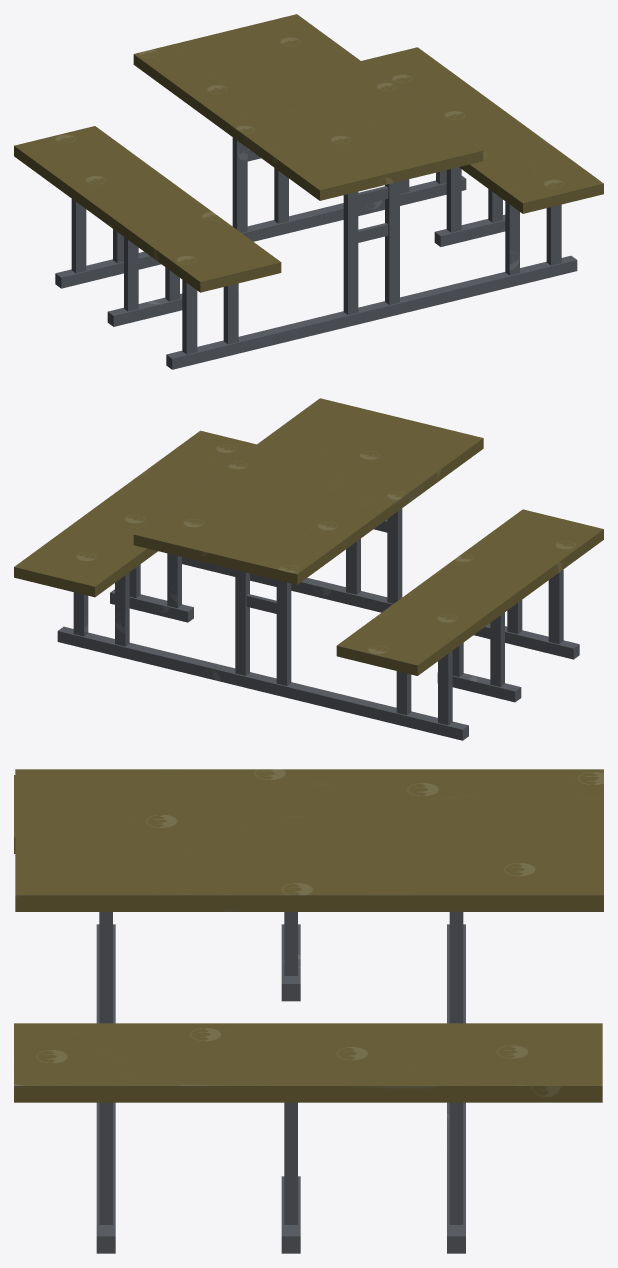
Rendered from Cafeteria table.fbx.
3 views of the same model, one above another, from view 1: azimuth 30°, elevation 25°; view 2: azimuth 150°, elevation 25°; view 3: azimuth 270°, elevation 25° (orthographic). The views are drawn at different scales.
Parts seen in each view (by area): view 1: Table; view 2: Table; view 3: Table.
Part boxes in pixels (box(x1,y1,x2,y2)): Table: box(14, 14, 603, 369); Table: box(14, 398, 603, 740); Table: box(14, 769, 603, 1253).
Size of the model in its own units: 508 by 202 by 405.
